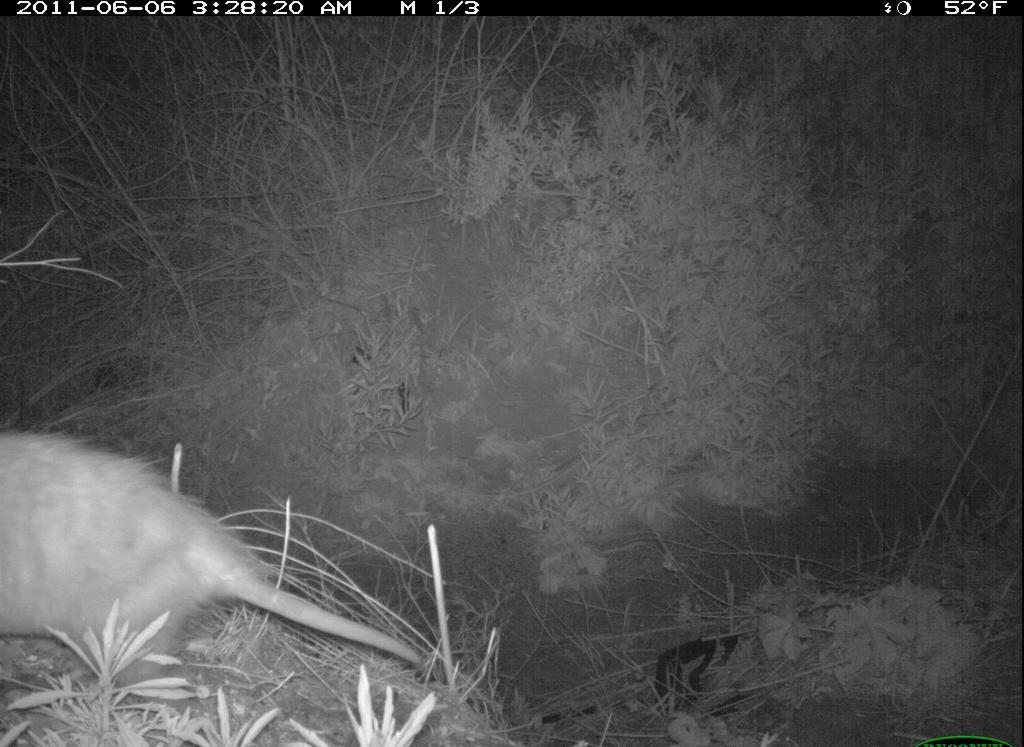opossum: (3, 419, 438, 692)
